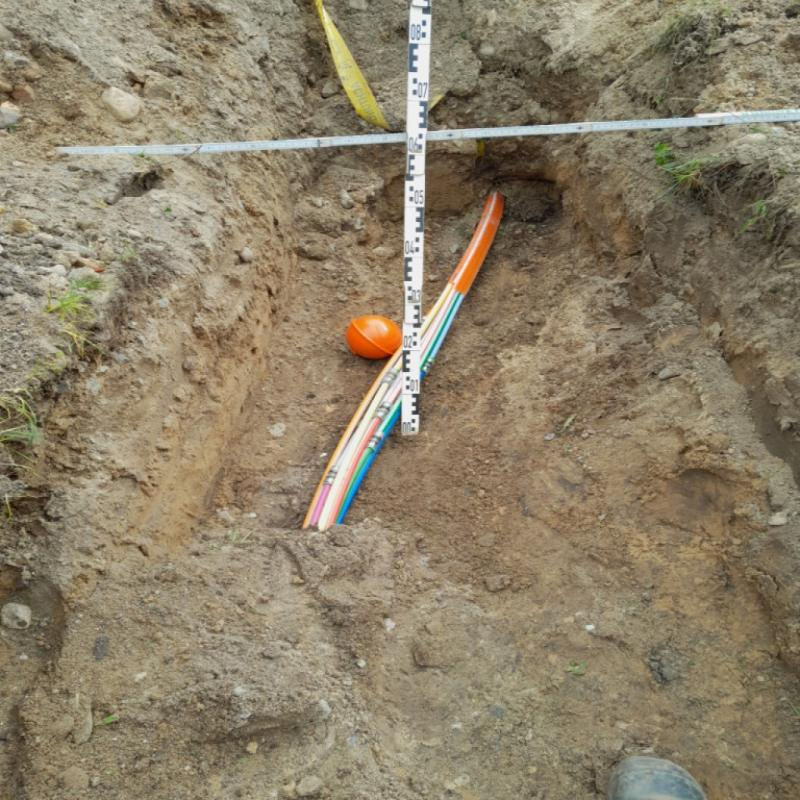Kugelmarker: (347, 316, 399, 359)
Orang-Speednetrohrchen: (419, 192, 507, 375)
